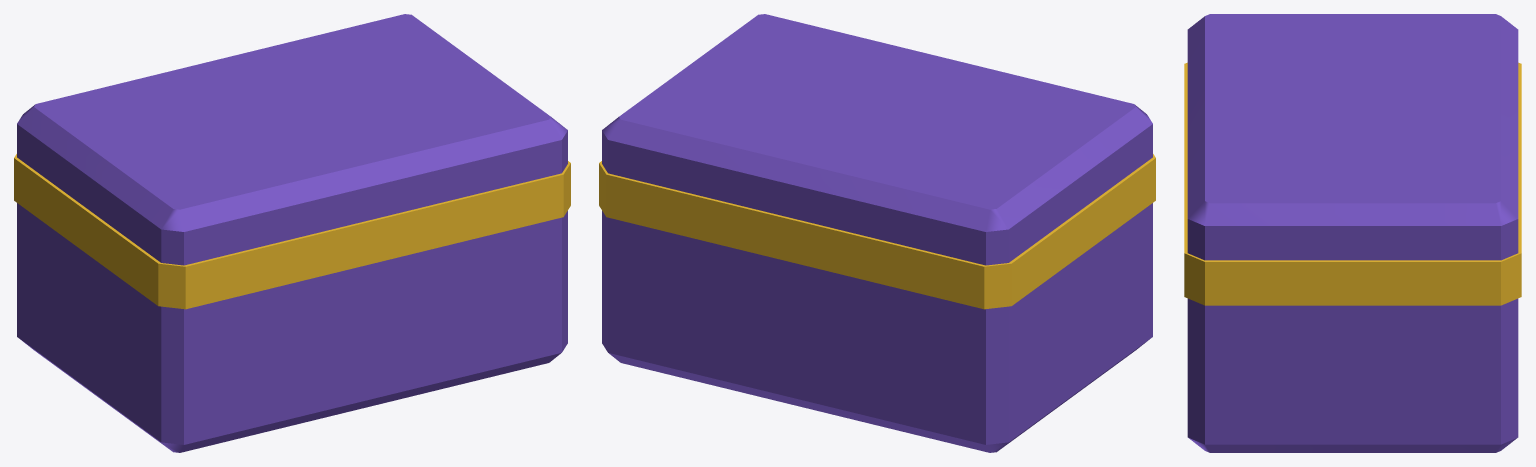
File: Product_BoxSmall.fbx
The picture shows the model from 3 angles, left to right: view 1: azimuth 30°, elevation 25°; view 2: azimuth 150°, elevation 25°; view 3: azimuth 270°, elevation 25°; orthographic projection. The views are drawn at different scales.
Parts seen in each view (by area): view 1: Product_BoxSmall_Body, Product_BoxSmall_Band; view 2: Product_BoxSmall_Body, Product_BoxSmall_Band; view 3: Product_BoxSmall_Body, Product_BoxSmall_Band.
Part boxes in pixels (x1,y1,x2,y2): Product_BoxSmall_Body: [17, 14, 567, 452]; Product_BoxSmall_Band: [14, 154, 570, 309]; Product_BoxSmall_Body: [602, 14, 1152, 452]; Product_BoxSmall_Band: [599, 154, 1155, 309]; Product_BoxSmall_Body: [1187, 14, 1518, 452]; Product_BoxSmall_Band: [1184, 62, 1521, 305].
Size of the model in its own units: 14.2 by 8 by 9.8.
